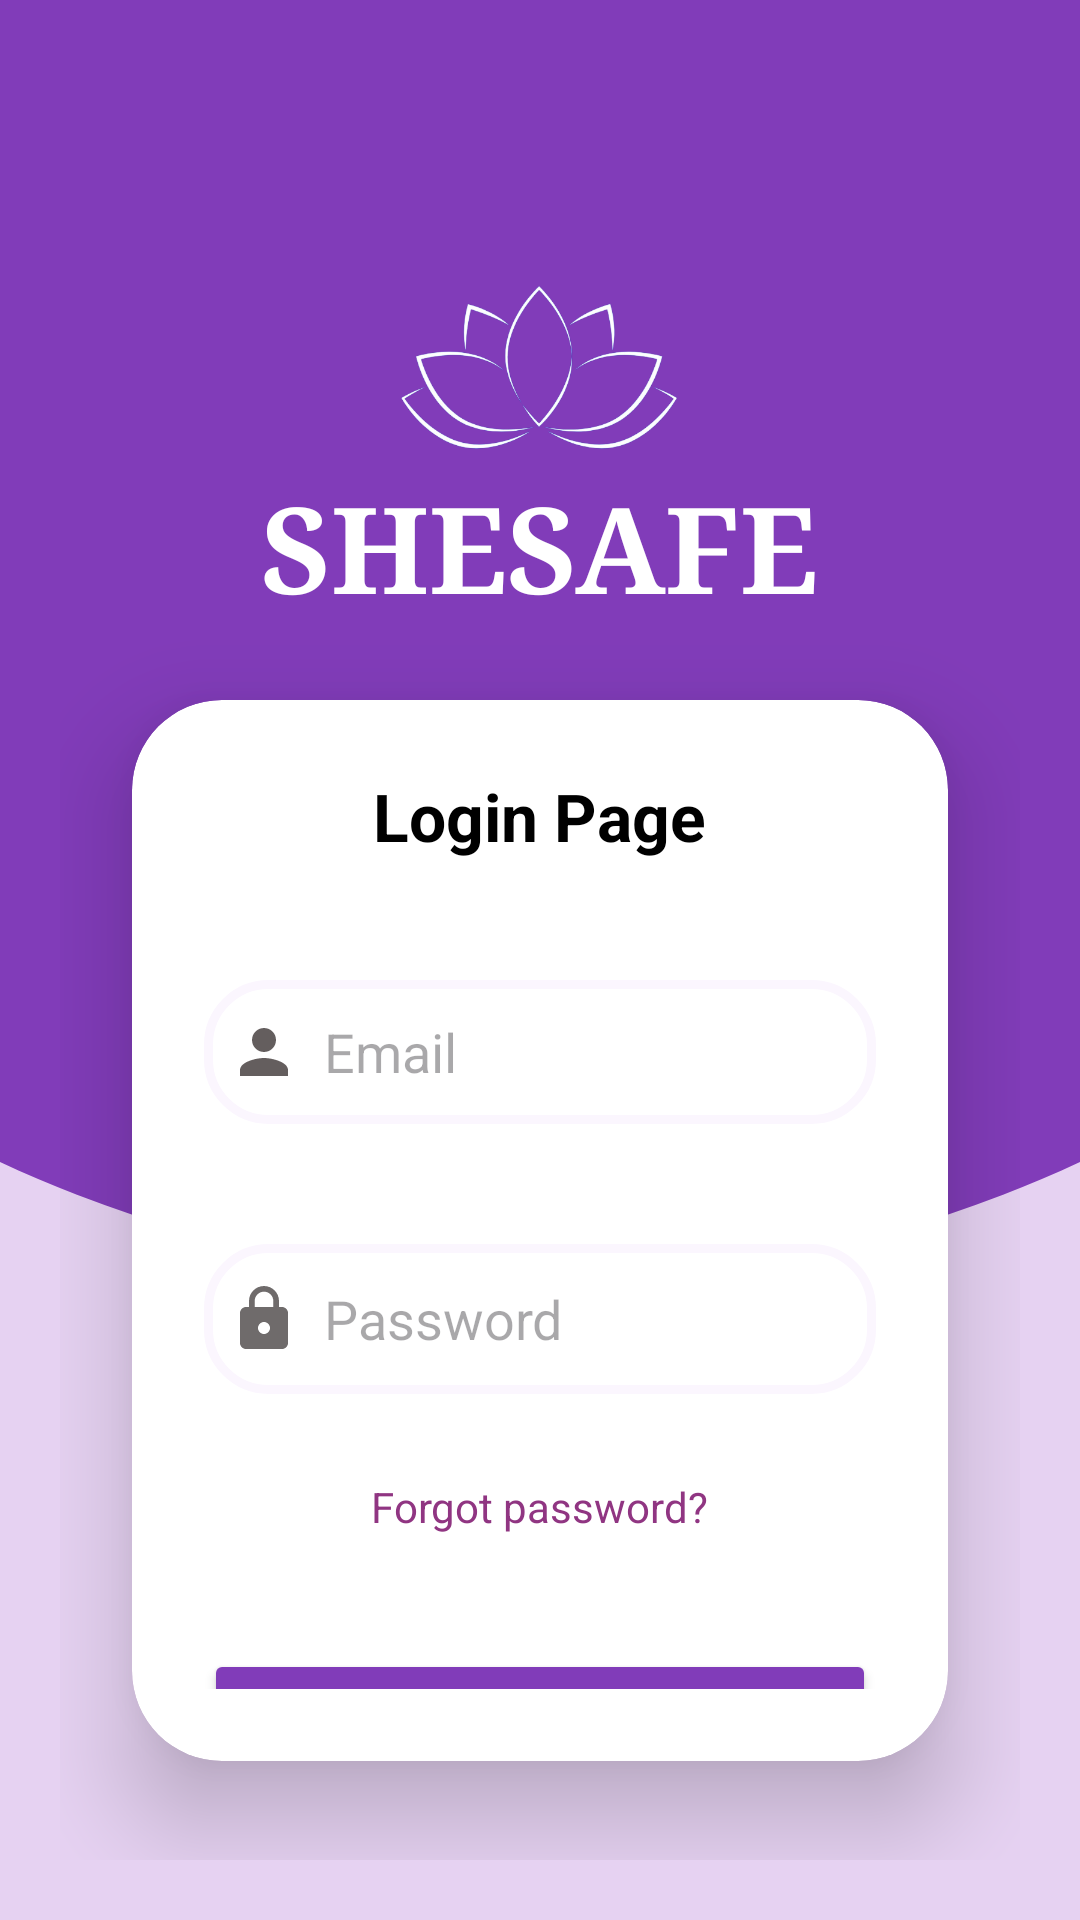

Screen size 1080 x 1920. Icon name, then its box in pixels as (x1, y1, x2, y2):
lotus: (401, 286, 677, 449)
